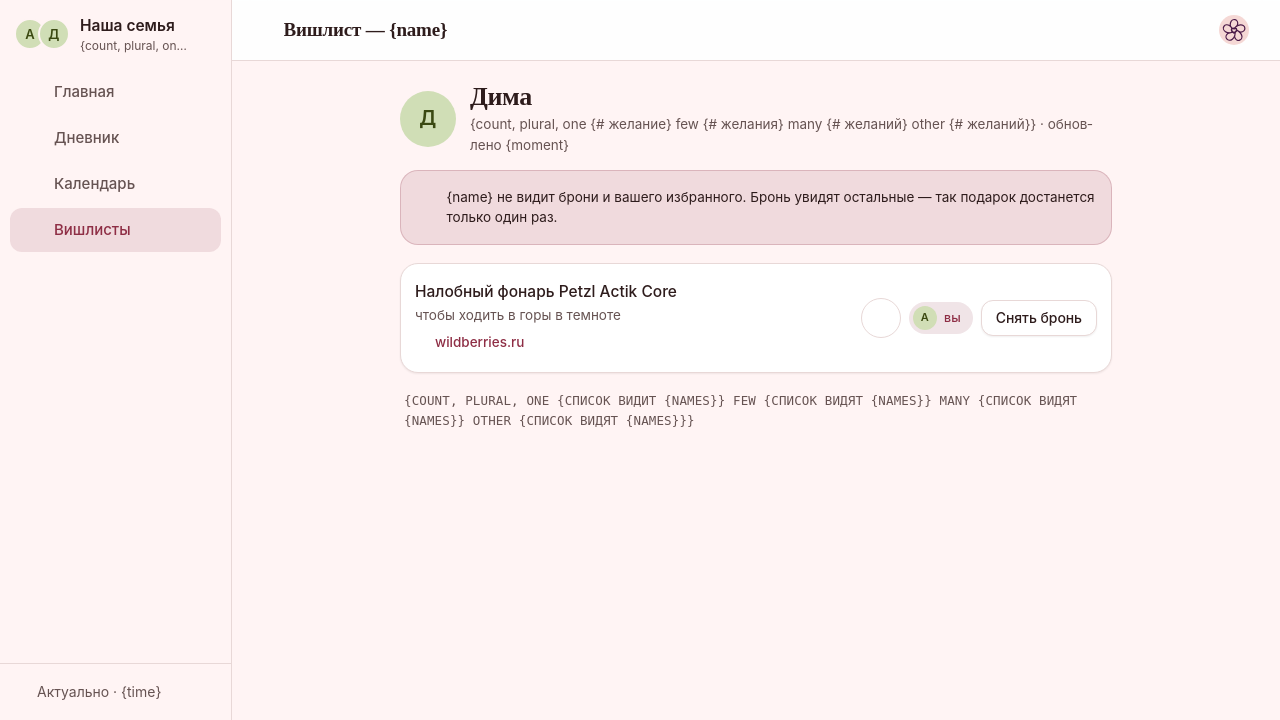
Test case: the person screen gift controls (issue #19) › cancels the member’s own reservation behind its confirm
Expected: the text "вы" is shown, 944,310 -> 961,325
Click the button "Снять бронь".
click(1039, 318)  # box 981,300 -> 1097,336
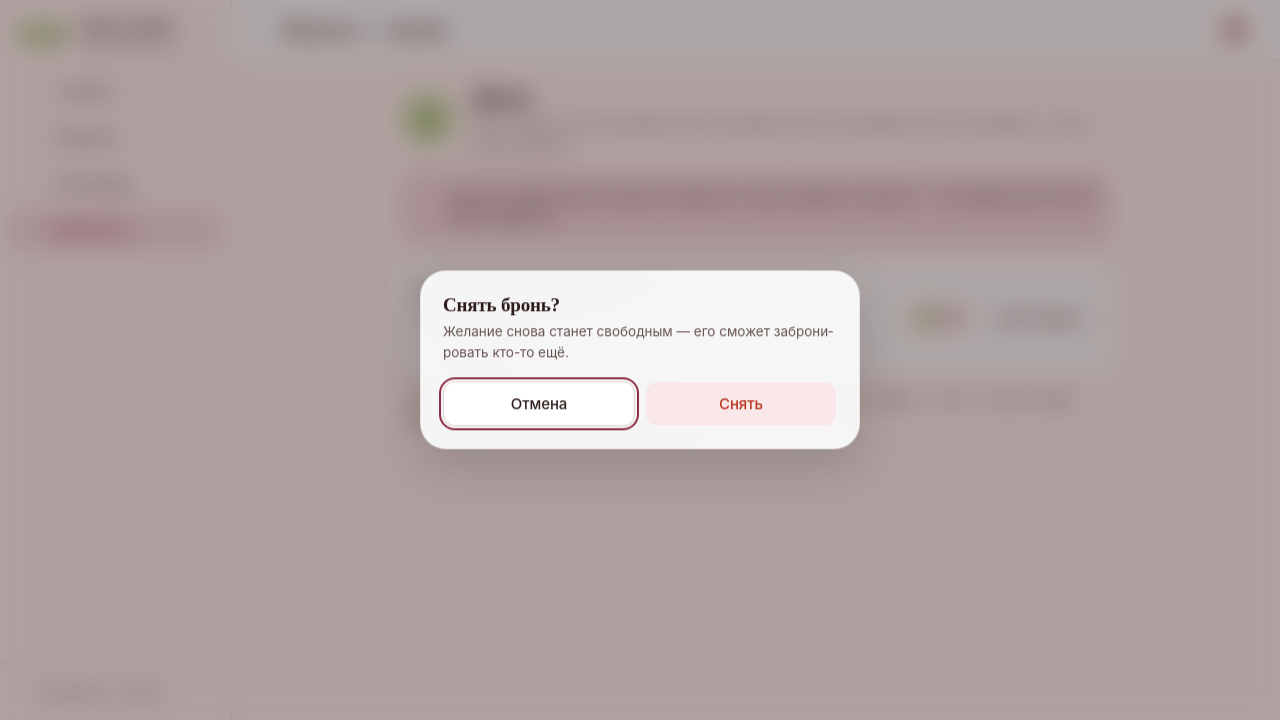
Now the heading "Снять бронь?" is shown, box 443,294 -> 560,315
Click the button "Снять".
click(741, 404)  # box 645,382 -> 837,427
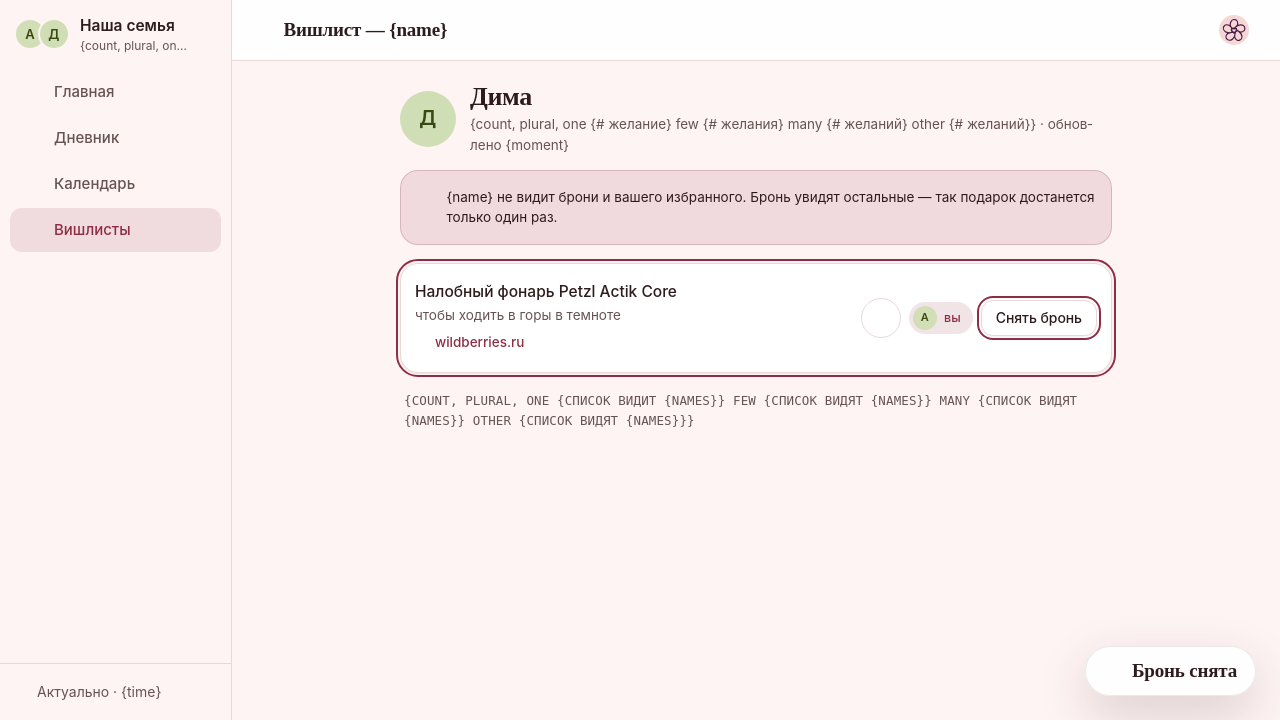
Now the heading "Бронь снята" is shown, box 1132,659 -> 1237,683
